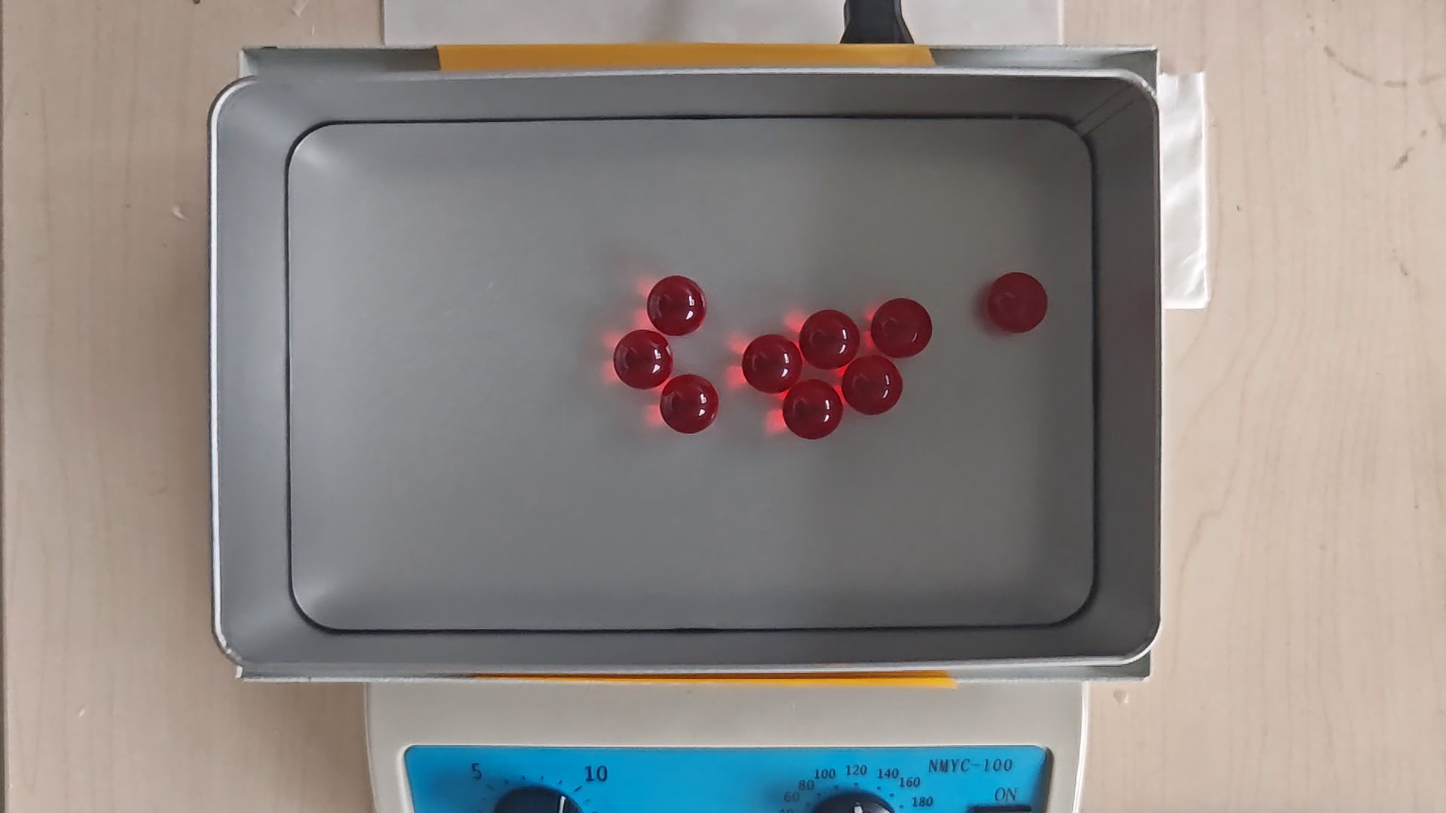ball: (987, 271, 1048, 335), (799, 308, 861, 370), (783, 379, 844, 442), (872, 297, 933, 359), (660, 374, 720, 435), (647, 274, 706, 336), (742, 334, 802, 394), (843, 356, 903, 416), (613, 330, 673, 390)
container: (284, 119, 1100, 628)
